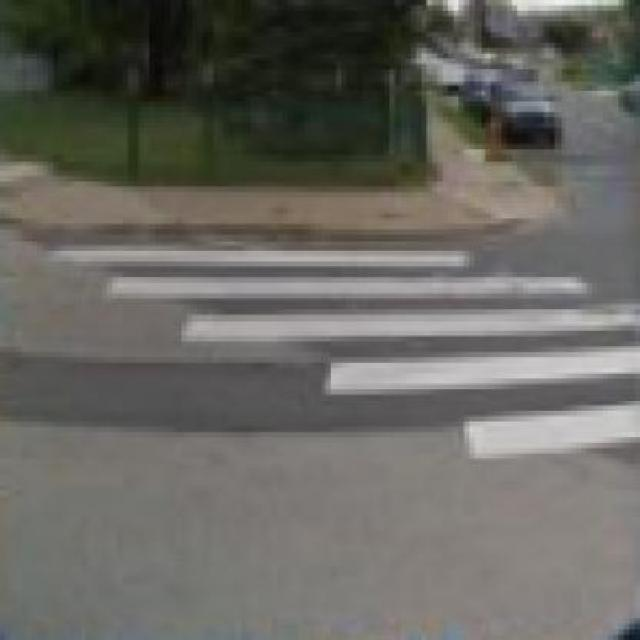crosswalk: (36, 246, 640, 464)
